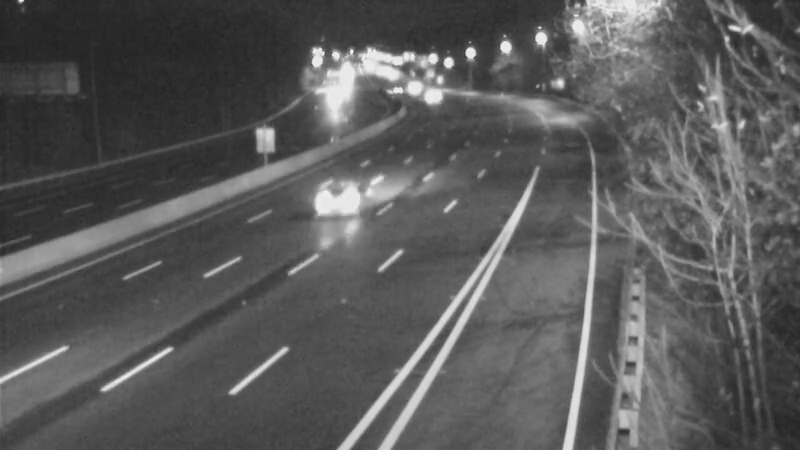vehicle: (302, 154, 382, 234), (386, 64, 436, 114), (369, 65, 419, 115), (408, 70, 458, 120)
